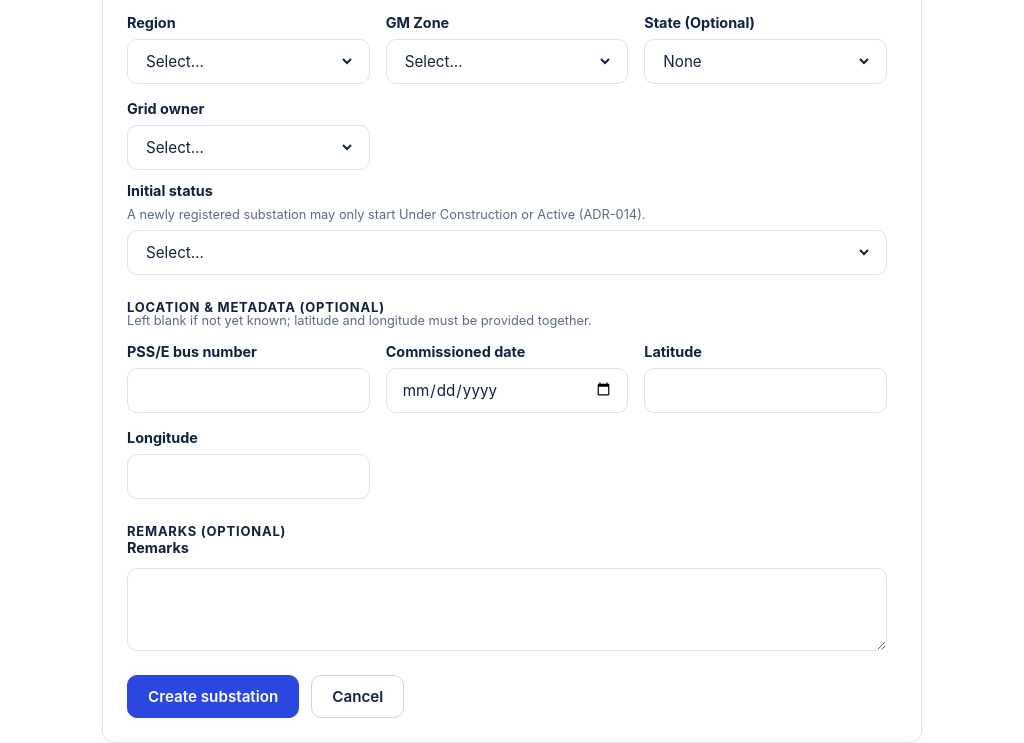
Test: SubstationCreatePage › blocks submission and shows field errors when required fields are empty
This screenshot has width=1024, height=743.
(page scrolled)
Click the button "Create substation". click: (213, 696)
box: [127,674,299,718]
(page scrolled)
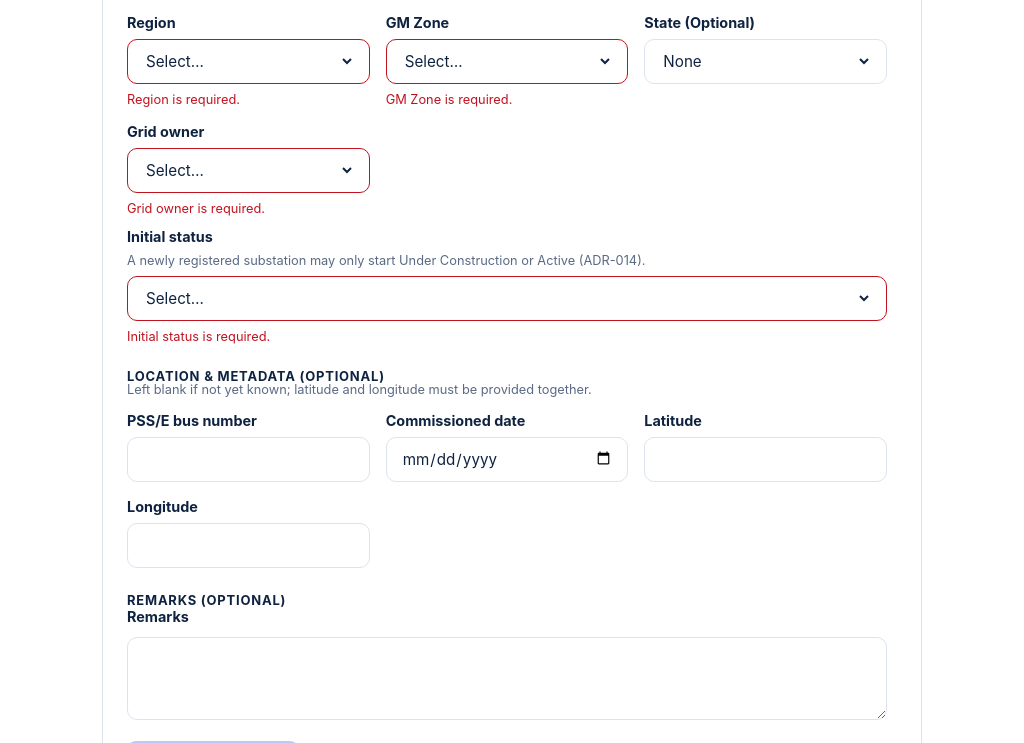
Expected: the text "Region is required." is shown, [127,92,240,107]
Expected: the text "Initial status is required." is shown, [127,329,270,344]
